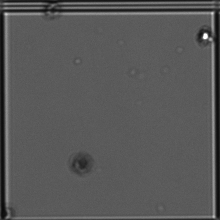Dead Cell: (64, 148, 103, 180)
Living Cell: (194, 21, 214, 47)
